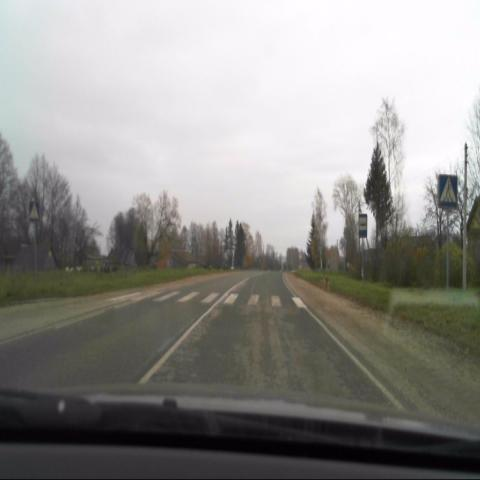5_16: (358, 214, 368, 239)
5_19_1: (438, 174, 458, 210), (28, 200, 40, 223)
